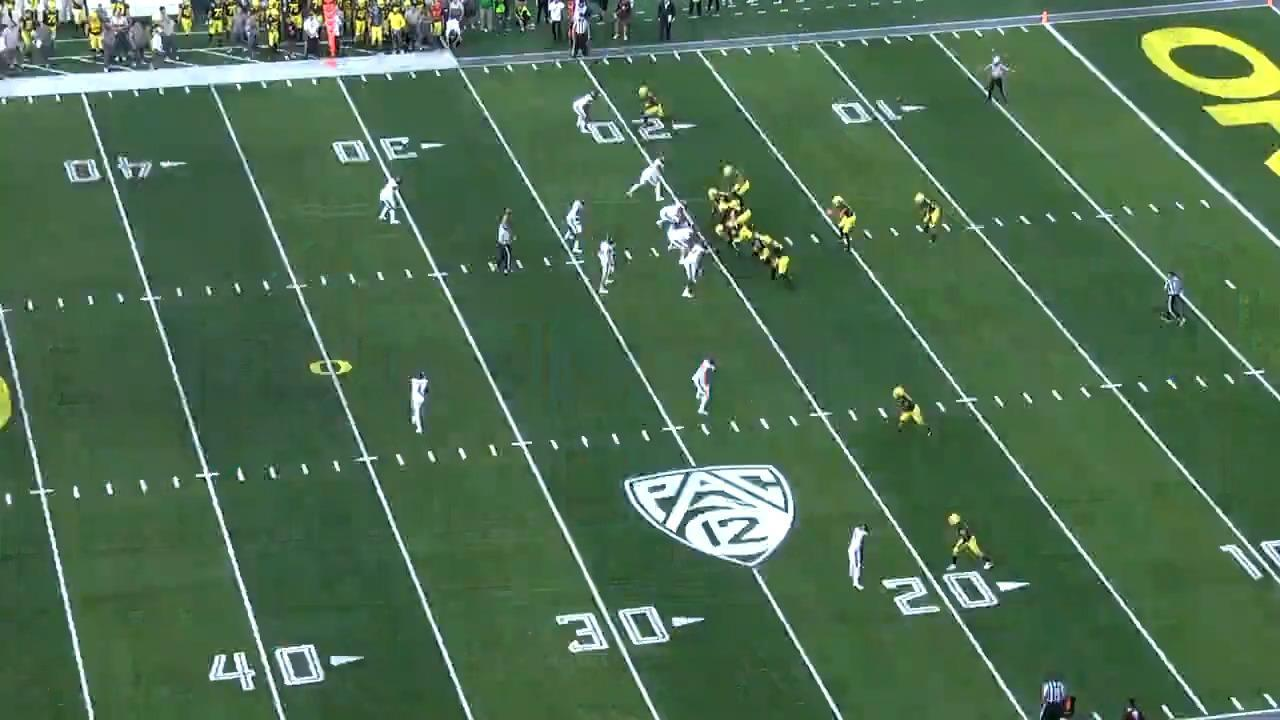defense: (625, 154, 670, 203), (690, 355, 721, 422), (680, 238, 711, 303), (844, 521, 871, 594), (408, 367, 433, 439), (592, 235, 620, 298), (563, 197, 590, 257), (570, 88, 602, 137), (665, 219, 699, 262), (374, 173, 400, 229), (657, 197, 692, 231)
oline: (760, 239, 797, 288), (754, 230, 792, 274), (714, 201, 750, 244), (723, 214, 757, 253), (706, 187, 740, 218)
qb: (827, 192, 861, 254)
ref: (1163, 270, 1193, 331), (1035, 673, 1073, 720), (494, 208, 518, 275), (566, 9, 592, 63), (985, 51, 1010, 107)
skill: (944, 511, 998, 579), (891, 382, 937, 442), (636, 84, 673, 136), (912, 188, 940, 246), (720, 160, 751, 203)
